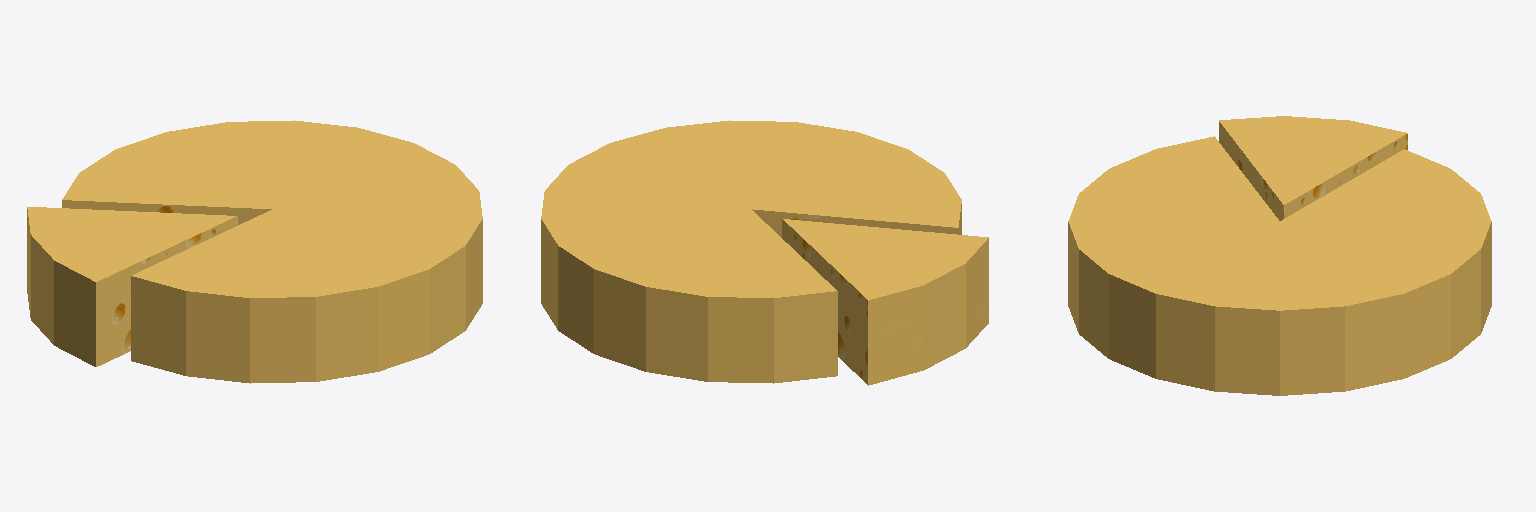
The picture shows the model from 3 angles: view 1: azimuth 30°, elevation 25°; view 2: azimuth 150°, elevation 25°; view 3: azimuth 270°, elevation 25°; orthographic projection.
Parts seen in each view (by area): view 1: Cheese2:pCylinder2; view 2: Cheese2:pCylinder2; view 3: Cheese2:pCylinder2.
Part boxes in pixels (x1,y1,x2,y2): Cheese2:pCylinder2: (27,120,482,383); Cheese2:pCylinder2: (541,120,988,385); Cheese2:pCylinder2: (1068,116,1491,395).
Size of the model in its own units: 1.47 by 0.3 by 1.35.
Materials: 2 (1 with a texture image).